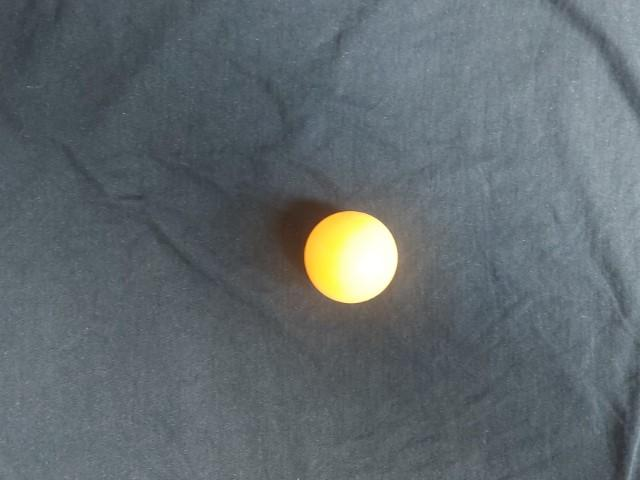oball: (233, 168, 345, 281)
